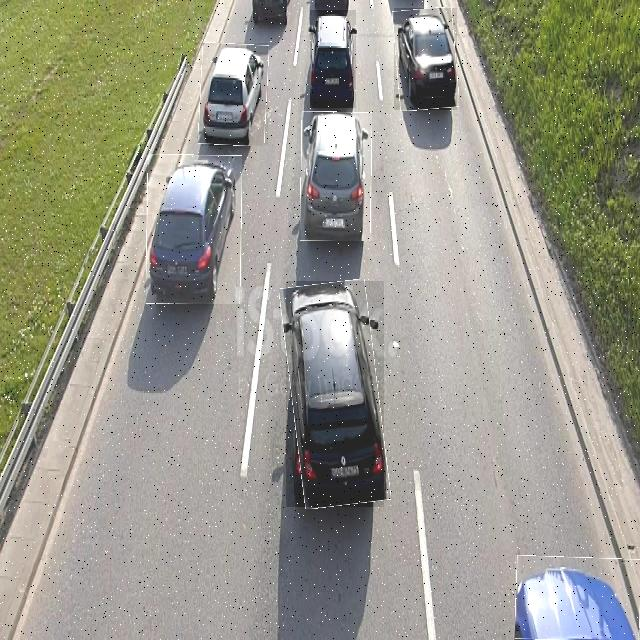Car: (286, 281, 384, 507), (146, 155, 242, 304), (515, 556, 640, 640), (301, 112, 372, 241), (200, 43, 268, 146), (394, 9, 457, 110), (310, 10, 356, 108)
